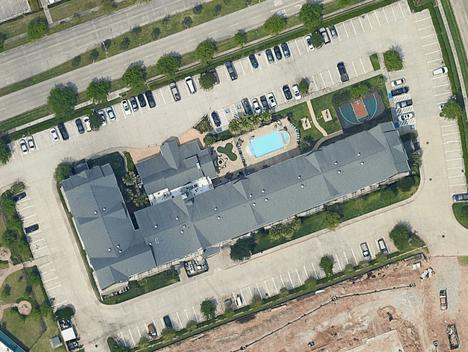parkingspot: (206, 33, 317, 89), (112, 297, 224, 352), (95, 76, 199, 129), (231, 259, 327, 310), (411, 8, 455, 114), (2, 114, 95, 164), (318, 0, 414, 48), (327, 234, 399, 276), (303, 55, 375, 96), (11, 189, 51, 260), (233, 82, 303, 122), (438, 115, 468, 204), (36, 260, 72, 317), (387, 68, 411, 98), (0, 0, 30, 21), (208, 110, 222, 130), (222, 105, 235, 125), (394, 98, 414, 111), (396, 111, 416, 122), (400, 123, 418, 135)
